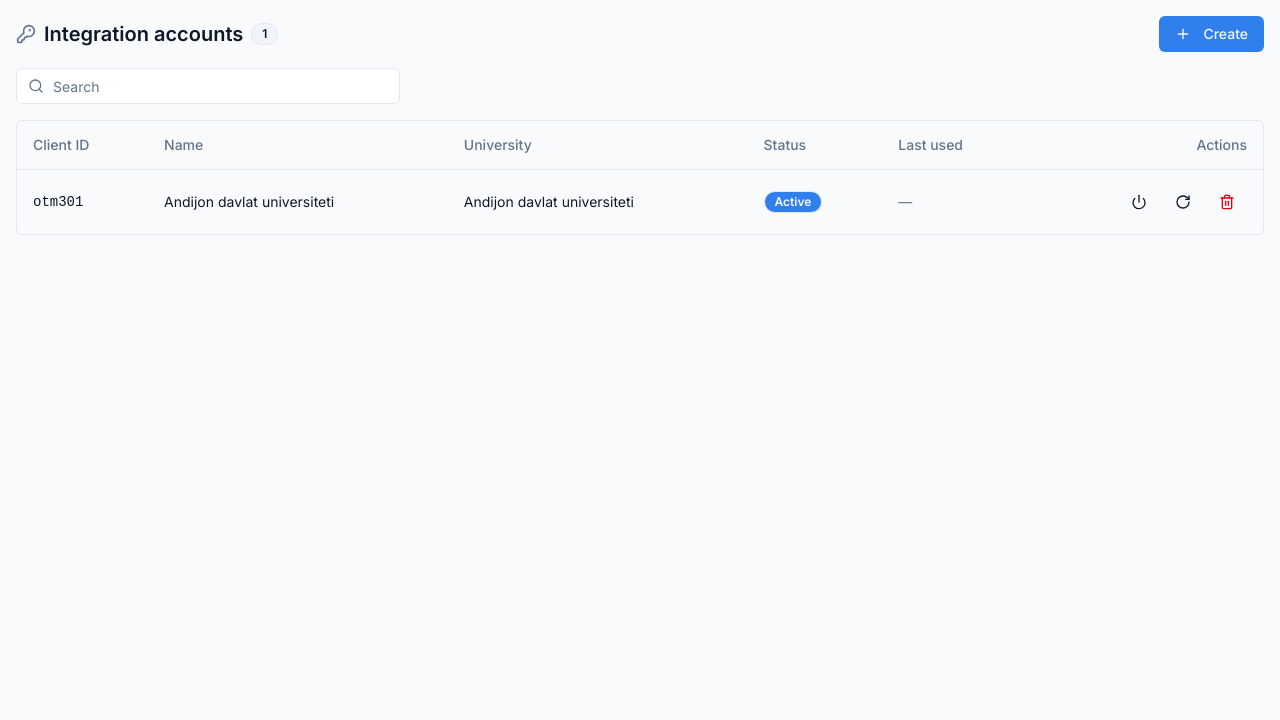
OAuthClientsPage — sir rotatsiyasi › mustahkamlik ko‘rsatkichi kuchli sirni KUCHLI deb belgilaydi
This screenshot has width=1280, height=720.
Click the button titled "Rotate secret".
click(1183, 202)  # box [1163,186,1203,218]
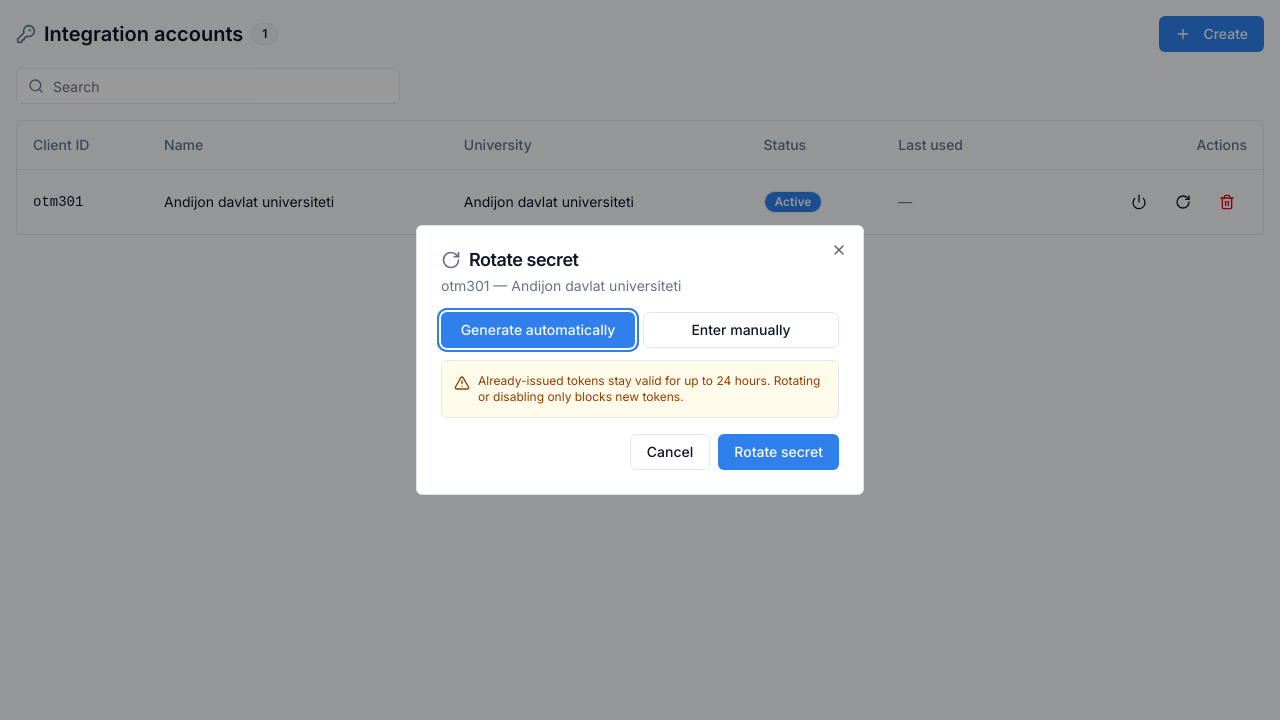
Expected: the button "Generate automatically" is shown, [441,312,635,348]
Click the button "Enter manually".
click(741, 330)  # box [643,312,839,348]
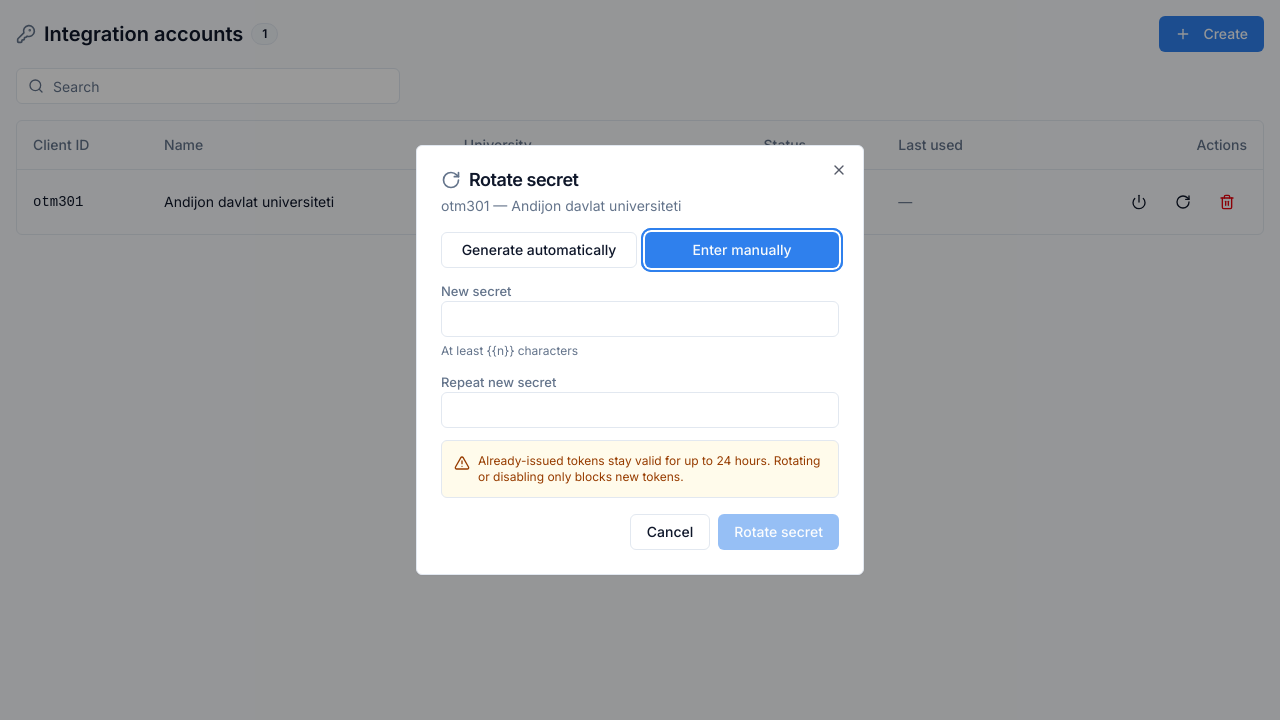
Type "7Kq!zR4$mW9pXv2#Lb6@" into the field labelled "New secret".
click(640, 319); type("7Kq!zR4$mW9pXv2#Lb6@")  # box [441,301,839,337]
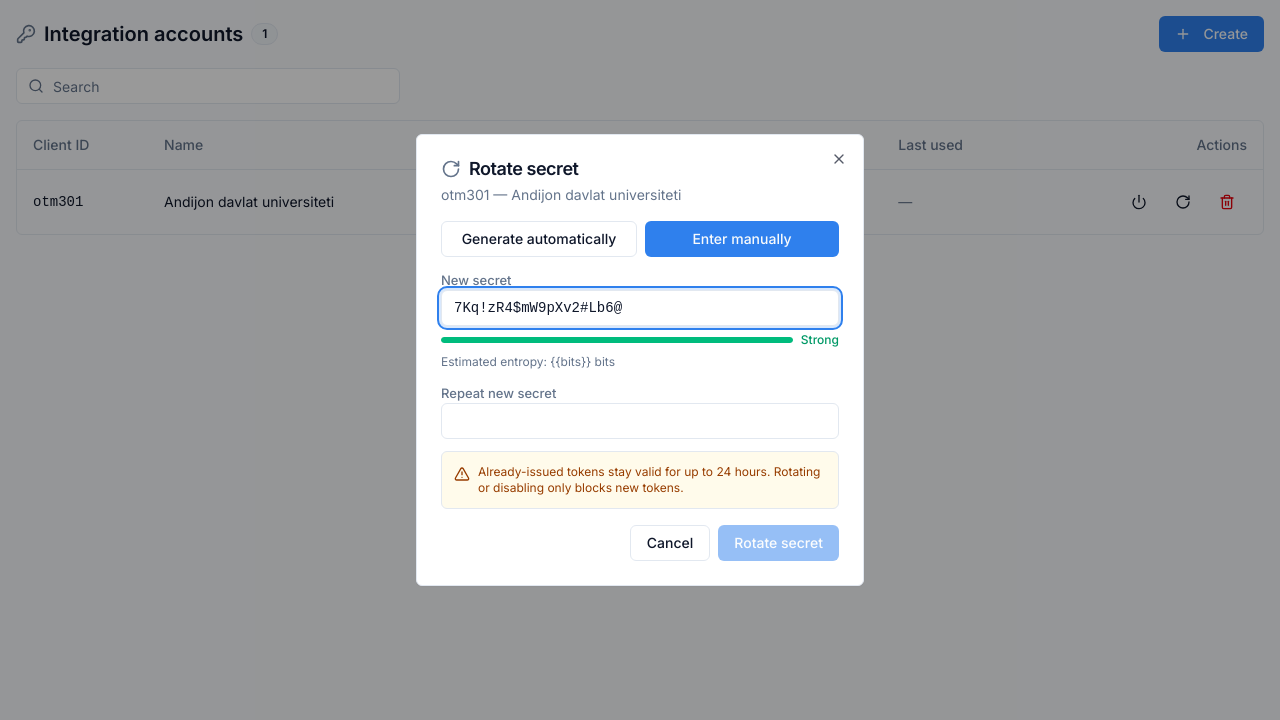
Expected: the text "Strong" is shown, [801,332,839,348]
